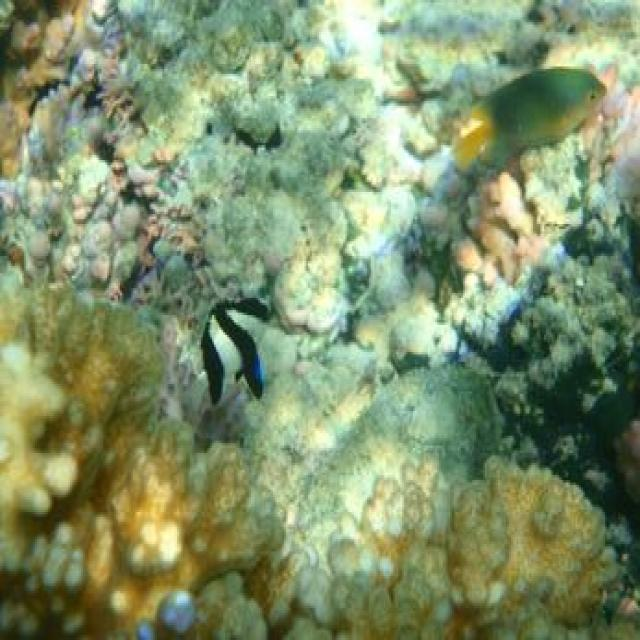Three_striped DasmselFish: (197, 293, 276, 406)
